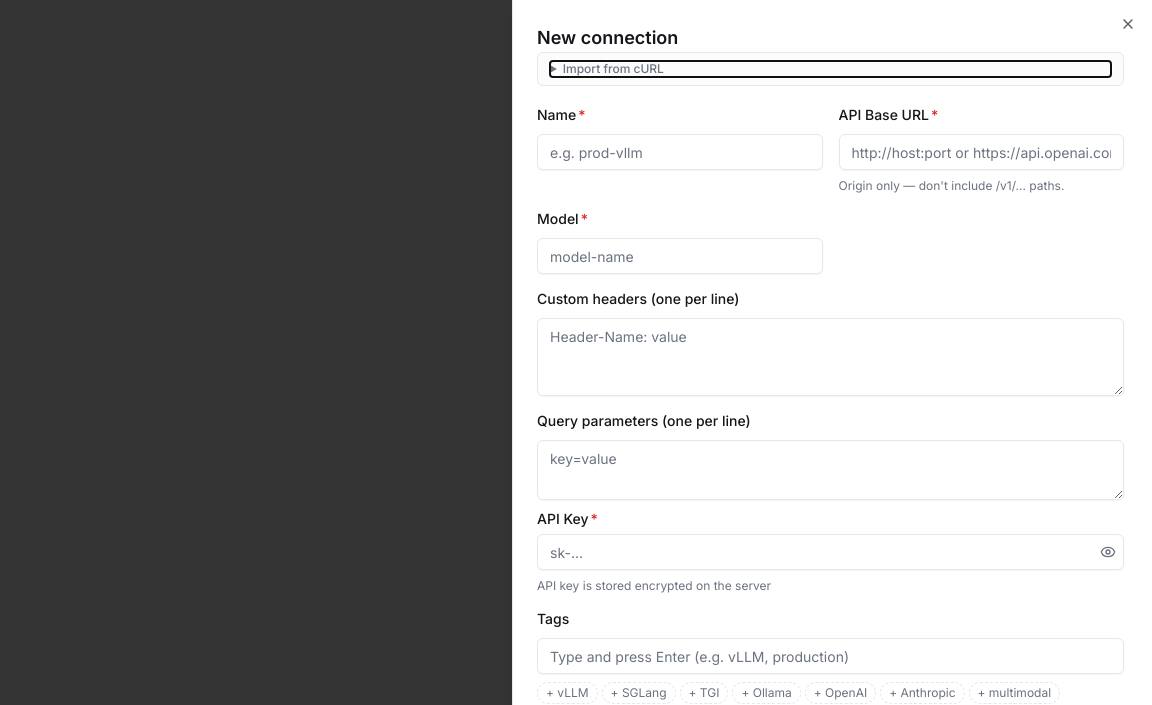
it: ConnectionSheet — Discover region › renders no-results banner when nothing inferred
Type "http://x.test" into the field labelled "API Base URL*" at (981, 152), box [838,134,1124,170]
(page scrolled)
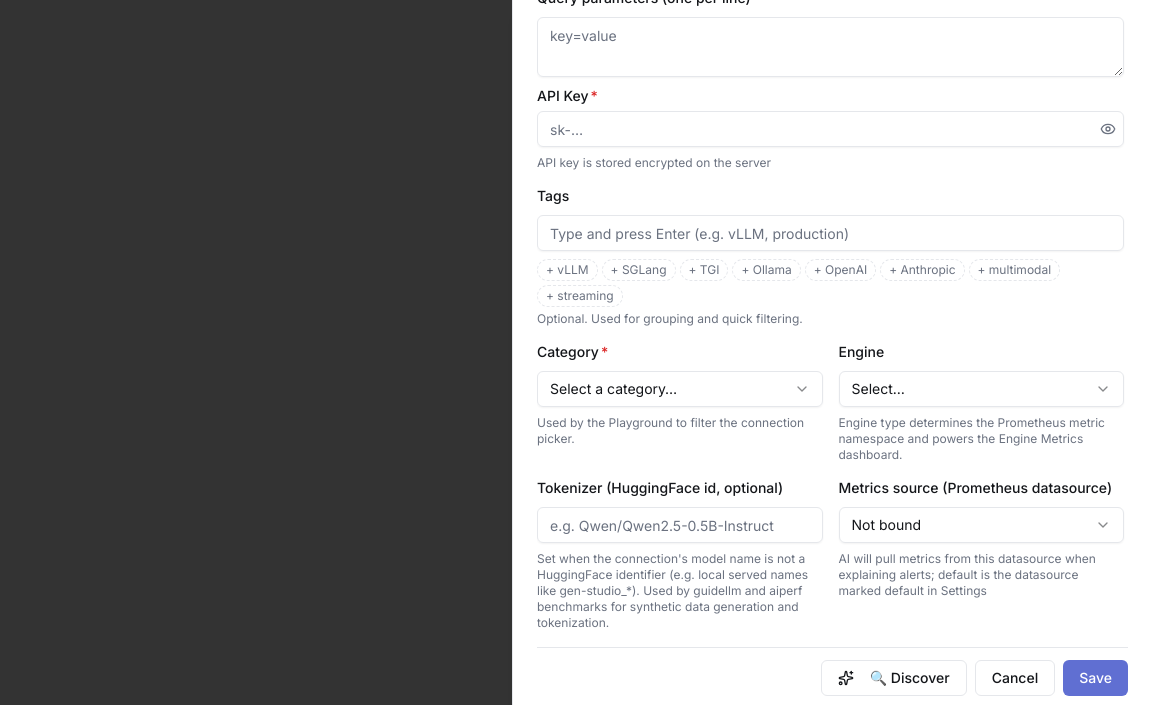
Click the button "🔍 Discover" at (894, 678), box [821,660,967,696]
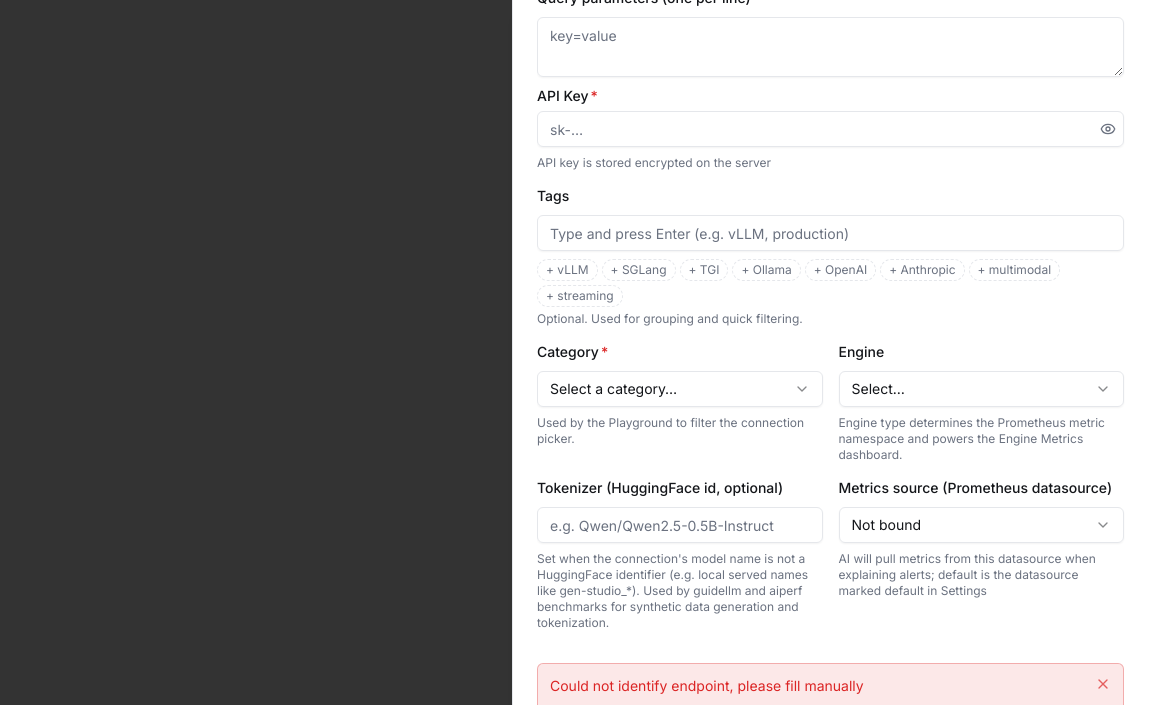
Check: the text "Could not identify endpoint, please fill manually" is shown, box [550,677,864,694]
